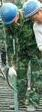boots: (26, 103, 36, 112)
gloves: (0, 60, 11, 74), (8, 65, 17, 76)
hard-hat: (0, 1, 17, 23)
ppe-suit: (0, 0, 1, 2)
